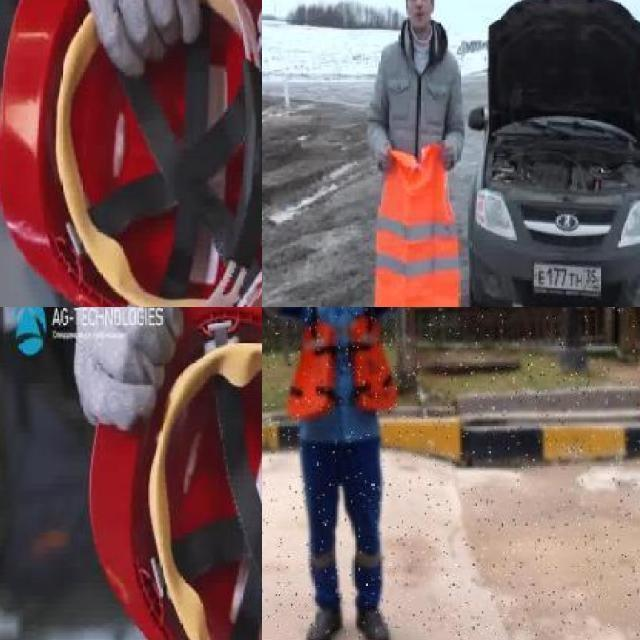apron: (71, 307, 184, 434), (43, 0, 209, 75)
